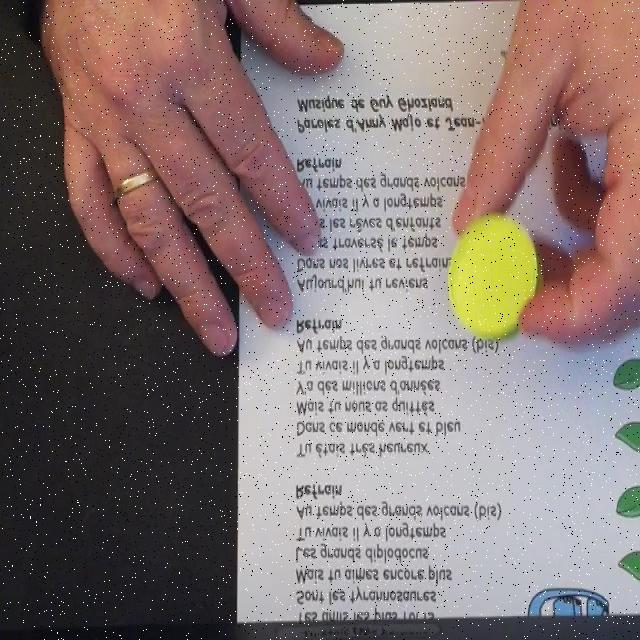round: (447, 214, 544, 342)
